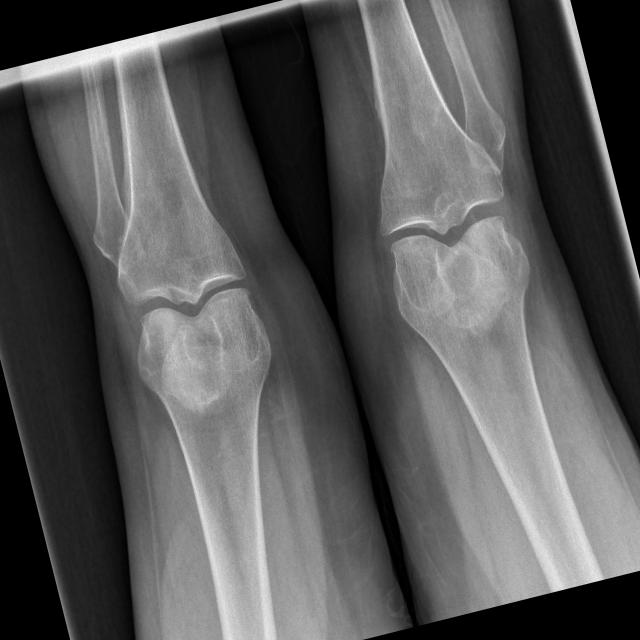Knee: (110, 225, 279, 391), (368, 158, 534, 308)
